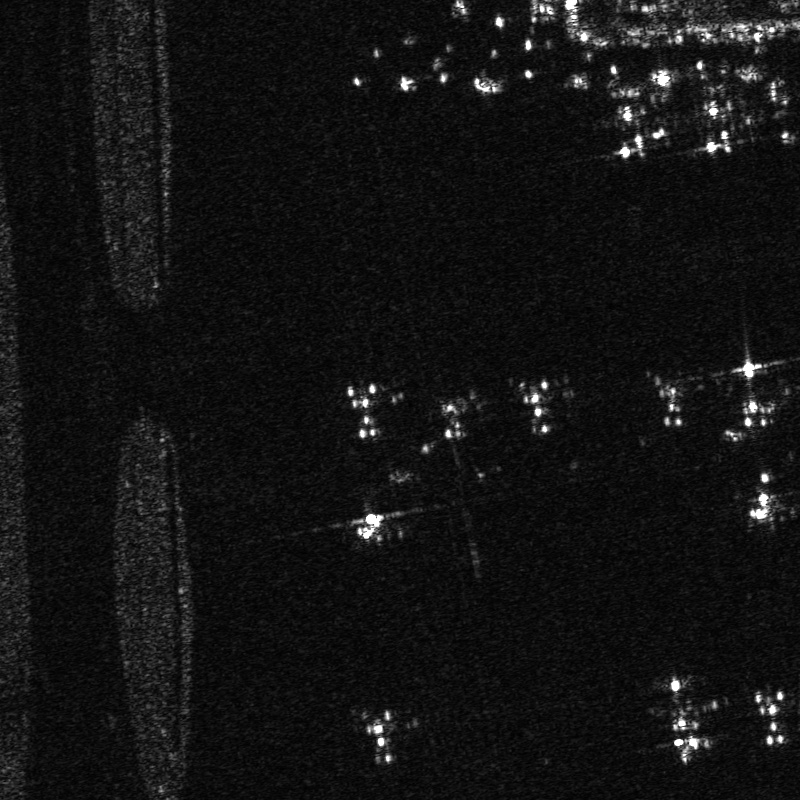ARJ21: (352, 698, 406, 773), (740, 465, 793, 536), (757, 63, 799, 145), (347, 498, 403, 544)
Boeing737: (592, 76, 680, 162)
other: (639, 667, 736, 768), (718, 344, 795, 450), (689, 72, 755, 155), (415, 387, 492, 457), (338, 371, 385, 449), (517, 378, 565, 447), (647, 374, 695, 440)
